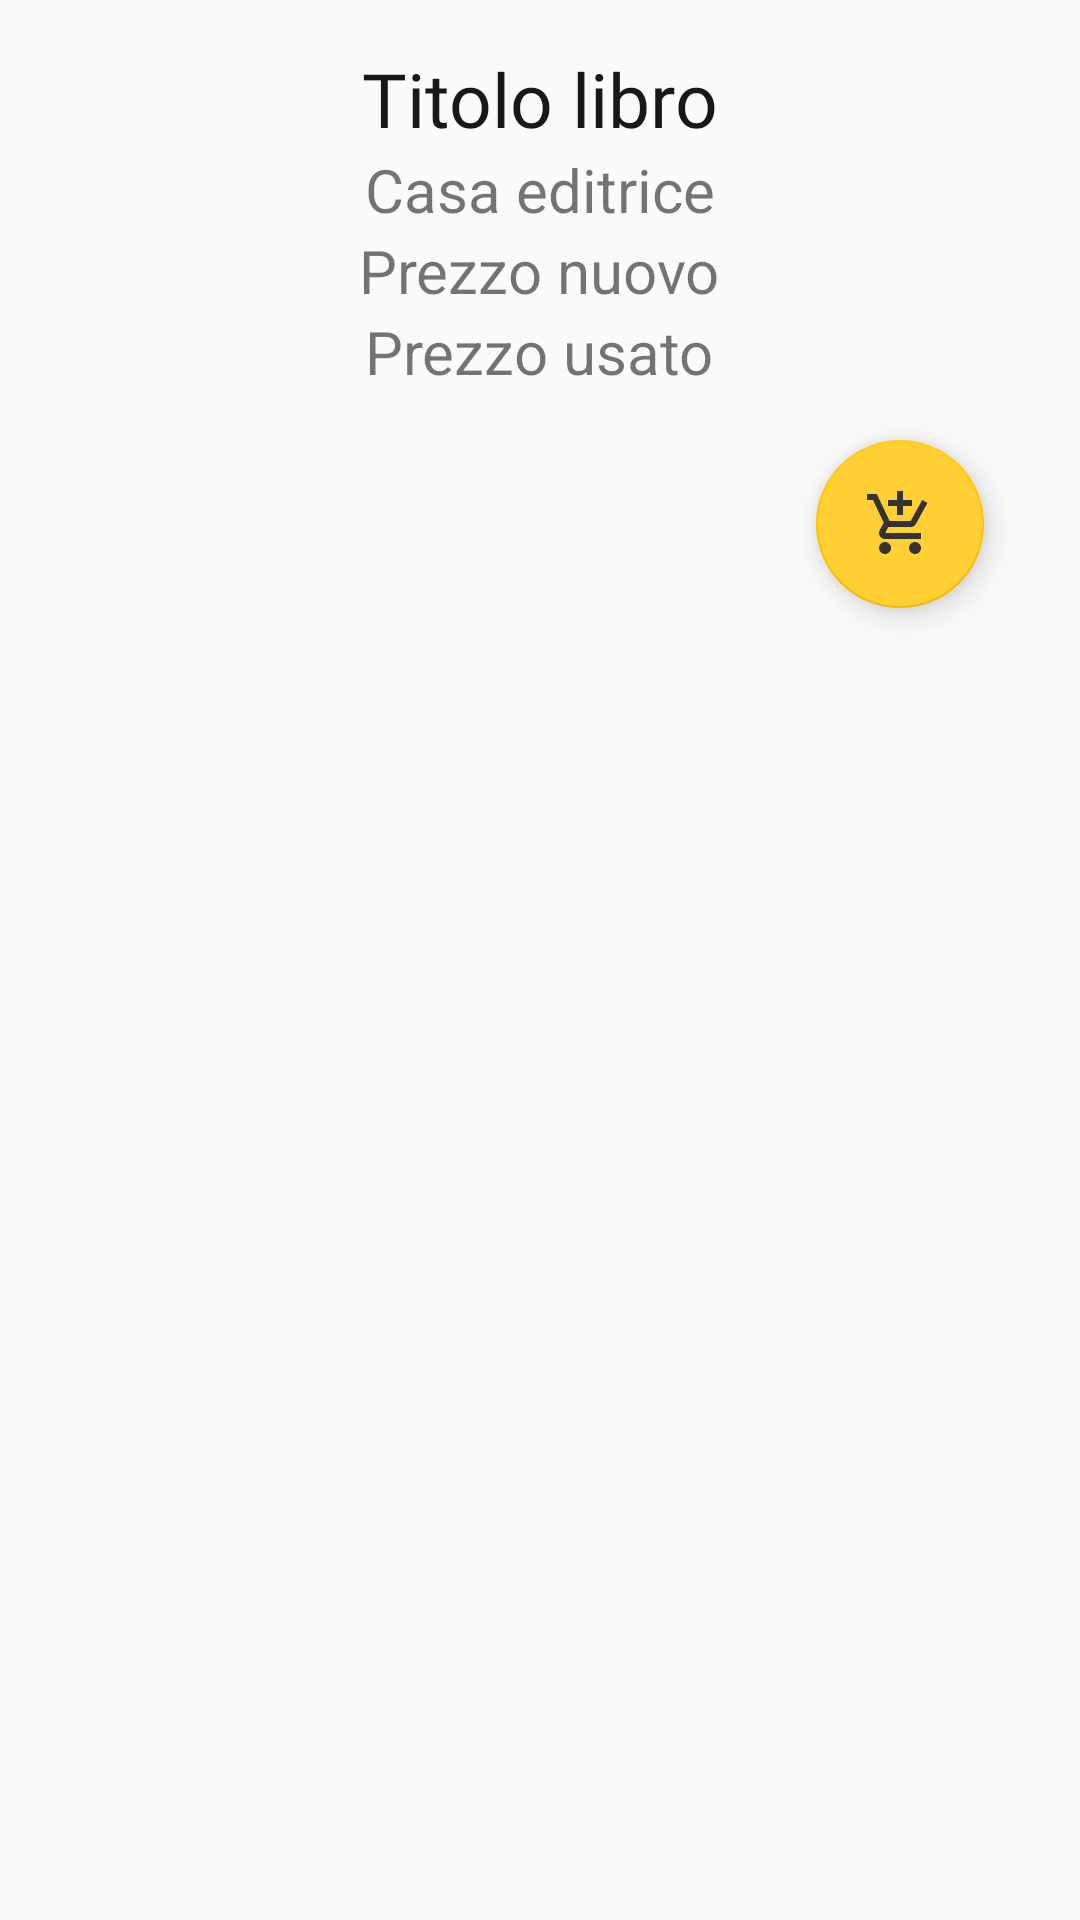

Icons on this 1080*1920 Android screen, each with its box as (x1, y1, x2, y2):
shopping cart: (816, 440, 984, 608)
